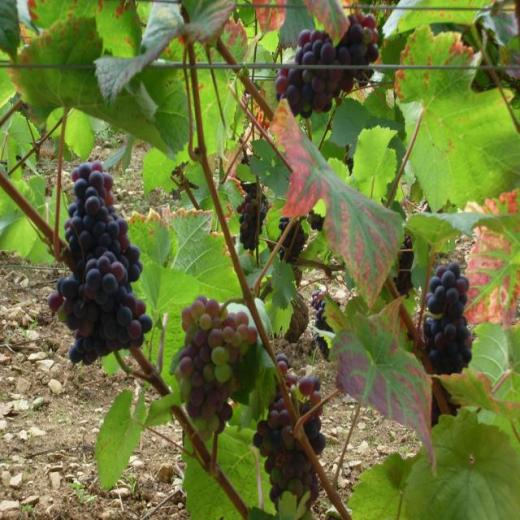Orange: (47, 162, 151, 364), (176, 295, 258, 444), (254, 356, 326, 511), (274, 12, 379, 116), (423, 264, 474, 428), (237, 182, 266, 251), (310, 290, 334, 354), (274, 219, 308, 263), (393, 231, 413, 295), (307, 210, 324, 230)
